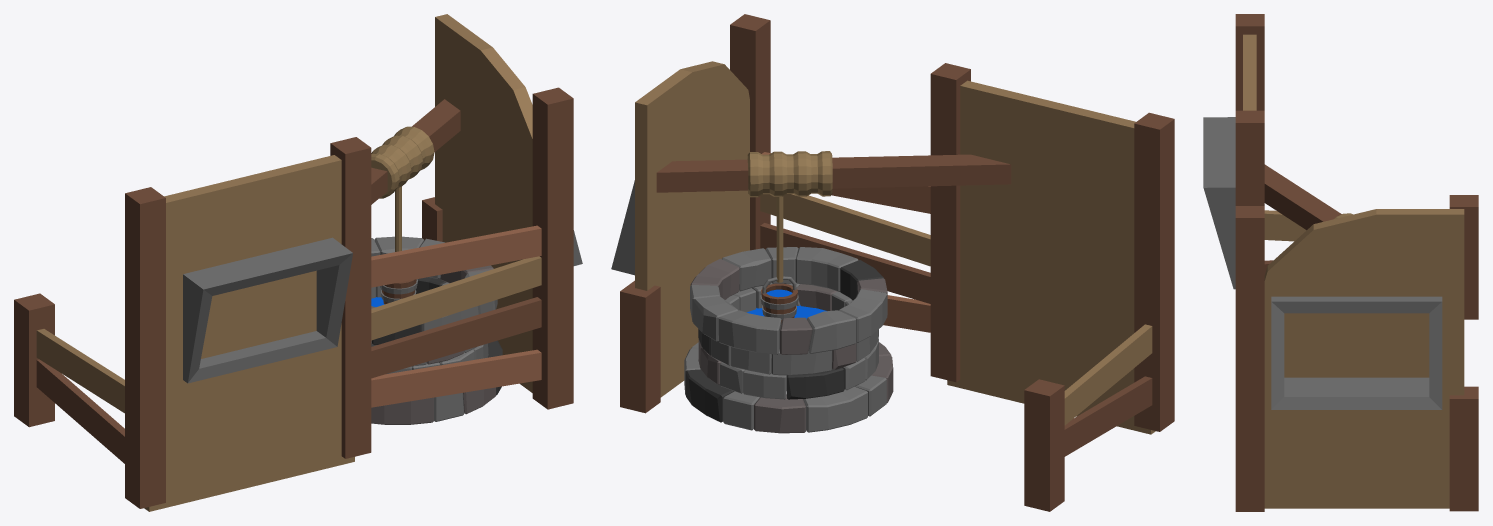
The model's file is Water_Collector_Seperated.fbx.
3 renders of one model, left to right at view 1: azimuth 30°, elevation 25°; view 2: azimuth 150°, elevation 25°; view 3: azimuth 270°, elevation 25°, orthographic. The views are drawn at different scales.
Visible parts, largest first — view 1: Cube.017, Cylinder.009; view 2: Cube.017, Cylinder.009, Cylinder.006; view 3: Cube.017.
Part boxes in pixels (left/top/right/bottom): Cube.017: left=14, top=14, right=582, bottom=511; Cylinder.009: left=380, top=279, right=417, bottom=304; Cube.017: left=611, top=14, right=1174, bottom=511; Cylinder.009: left=760, top=276, right=798, bottom=323; Cylinder.006: left=776, top=196, right=783, bottom=282; Cube.017: left=1203, top=14, right=1478, bottom=511.
Size of the model in its own units: 317 by 206 by 170.
